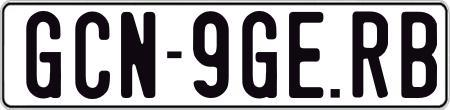9: (191, 9, 232, 102)
B: (401, 10, 433, 102)
C: (74, 11, 111, 101)
E: (286, 12, 326, 100)
G: (239, 10, 280, 97), (26, 8, 65, 97)
N: (121, 11, 155, 100)
R: (350, 10, 388, 99)
